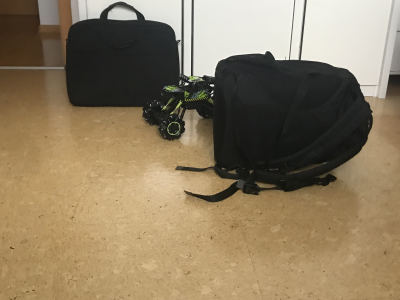remote control car: (138, 71, 222, 142)
